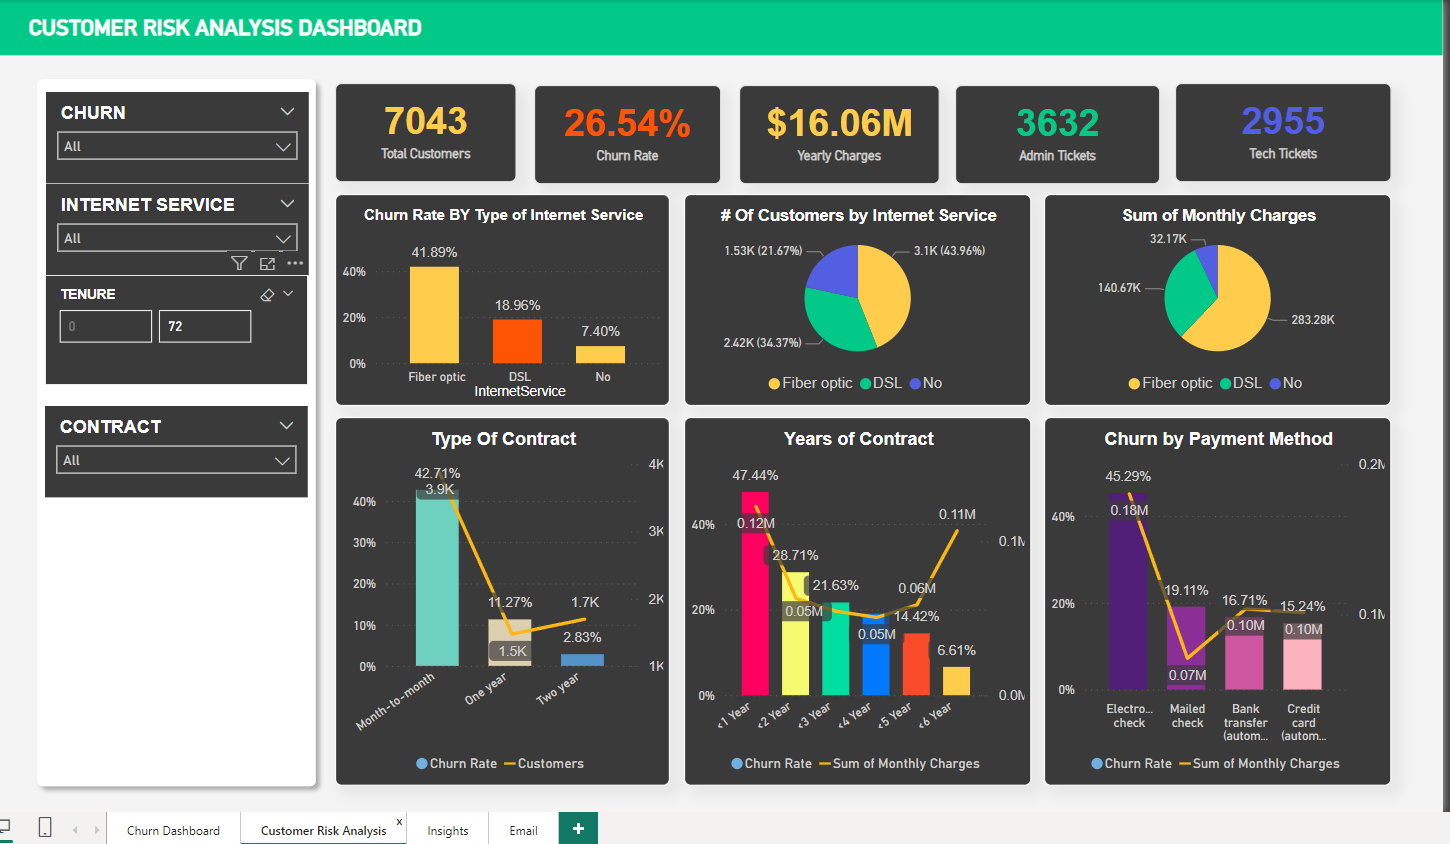

The dashboard page shown, as its layout file describes it:
{"tool":"powerbi","page":{"name":"Customer Risk Analysis","canvas":[1280,720],"ordinal":1},"visuals":[{"type":"shape","box":[0,0,1280,49],"z":0},{"type":"textbox","box":[21,8,438,33],"z":1000},{"type":"shape","box":[25,61,265,645],"z":2000},{"type":"slicer","fields":{"Values":["Churn.Churn"]},"box":[42,82,233,81],"z":3000},{"type":"slicer","fields":{"Values":["Churn.InternetService"]},"box":[42,163,233,81],"z":4000},{"type":"slicer","fields":{"Values":["Churn.tenure"]},"box":[41,244,233,97],"z":5000},{"type":"slicer","fields":{"Values":["Churn.Contract"]},"box":[41,360,233,81],"z":6000},{"type":"card","fields":{"Values":["Min(01 Churn-Dataset.customerID)"]},"box":[298,74,161,88],"z":7000},{"type":"card","fields":{"Values":["Churn.% Churn Rate"]},"box":[474,75,166,88],"z":8000},{"type":"card","fields":{"Values":["Sum(Churn.TotalCharges)"]},"box":[656,75,178,88],"z":9000},{"type":"card","fields":{"Values":["Sum(Churn.numAdminTickets)"]},"box":[848,75,182,88],"z":10000},{"type":"card","fields":{"Values":["Sum(Churn.numTechTickets)"]},"box":[1043,74,192,88],"z":11000},{"type":"columnChart","title":"Churn Rate BY Type of Internet Service","fields":{"Y":["Churn.% Churn Rate"],"Category":["Churn.InternetService"]},"box":[298,172,297,188],"z":12000},{"type":"pieChart","title":"# Of Customers by Internet Service","fields":{"Y":["CountNonNull(Churn.customerID)"],"Category":["Churn.InternetService"]},"box":[607,172,308,188],"z":13000},{"type":"pieChart","title":"Sum of Monthly Charges","fields":{"Category":["Churn.InternetService"],"Y":["Sum(Churn.MonthlyCharges)"]},"box":[927,172,308,188],"z":14000},{"type":"lineStackedColumnComboChart","title":"Type Of Contract","fields":{"Y2":["CountNonNull(Churn.customerID)"],"Y":["Churn.% Churn Rate"],"Category":["Churn.Contract"]},"box":[298,370,297,327],"z":15000},{"type":"lineStackedColumnComboChart","title":"Years of Contract","fields":{"Y":["Churn.% Churn Rate"],"Y2":["Sum(Churn.MonthlyCharges)"],"Category":["Churn.Tenure(in years)"]},"box":[607,370,308,327],"z":16000},{"type":"lineStackedColumnComboChart","title":"Churn by Payment Method","fields":{"Y":["Churn.% Churn Rate"],"Y2":["Sum(Churn.MonthlyCharges)"],"Category":["Churn.PaymentMethod"]},"box":[927,370,308,327],"z":17000}]}

Visuals, with their boxes in screenshot pixels (x1, y1, x2, y2):
shape: select_region(4, 0, 1434, 55)
textbox: select_region(27, 9, 517, 46)
shape: select_region(32, 68, 328, 789)
slicer - Churn.Churn: select_region(51, 92, 311, 182)
slicer - Churn.InternetService: select_region(51, 182, 311, 273)
slicer - Churn.tenure: select_region(50, 273, 310, 381)
slicer - Churn.Contract: select_region(50, 402, 310, 493)
card - Min(01 Churn-Dataset.customerID): select_region(337, 83, 517, 181)
card - Churn.% Churn Rate: select_region(533, 84, 719, 182)
card - Sum(Churn.TotalCharges): select_region(737, 84, 935, 182)
card - Sum(Churn.numAdminTickets): select_region(951, 84, 1154, 182)
card - Sum(Churn.numTechTickets): select_region(1169, 83, 1383, 181)
"Churn Rate BY Type of Internet Service" columnChart: select_region(337, 192, 668, 402)
"# Of Customers by Internet Service" pieChart: select_region(682, 192, 1026, 402)
"Sum of Monthly Charges" pieChart: select_region(1039, 192, 1383, 402)
"Type Of Contract" lineStackedColumnComboChart: select_region(337, 413, 668, 779)
"Years of Contract" lineStackedColumnComboChart: select_region(682, 413, 1026, 779)
"Churn by Payment Method" lineStackedColumnComboChart: select_region(1039, 413, 1383, 779)
